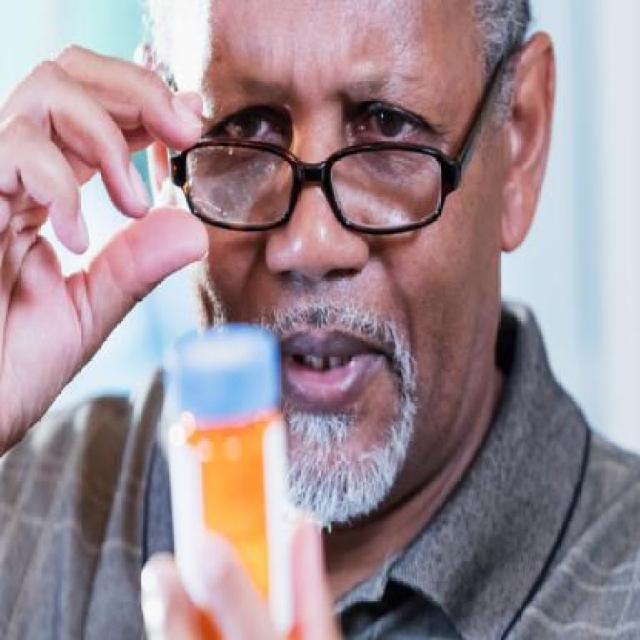glasses: (164, 123, 465, 242)
